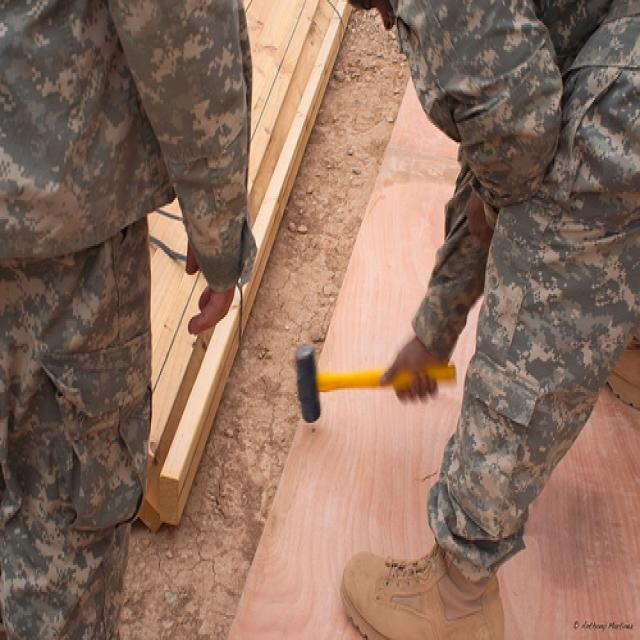hammer: (288, 332, 467, 435)
